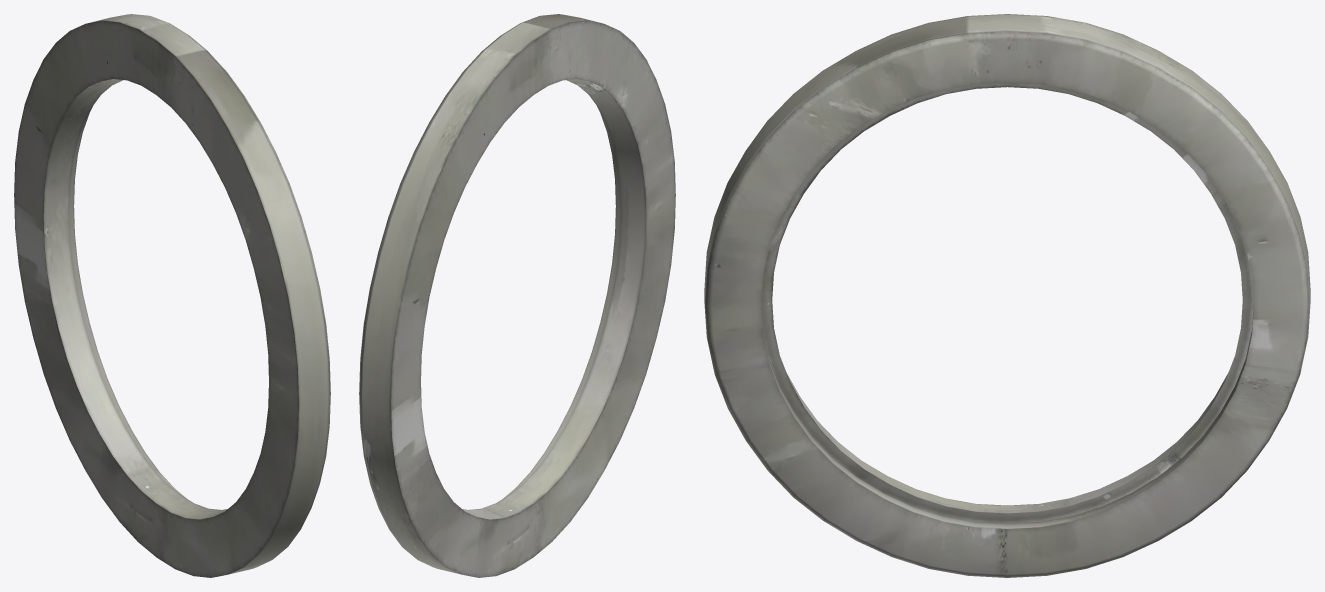
3 views of the same model, side by side, from view 1: azimuth 30°, elevation 25°; view 2: azimuth 150°, elevation 25°; view 3: azimuth 270°, elevation 25° (orthographic). The views are drawn at different scales.
Visible parts, largest first — view 1: body0_model0_lod0_mesh0; view 2: body0_model0_lod0_mesh0; view 3: body0_model0_lod0_mesh0.
Part boxes in pixels (bbox=[...]): body0_model0_lod0_mesh0: bbox=[14, 14, 330, 577]; body0_model0_lod0_mesh0: bbox=[359, 14, 675, 577]; body0_model0_lod0_mesh0: bbox=[704, 14, 1310, 577].
Bounding box in the file's own units: 17.01 × 238 × 238.
1 material, 1 textured.
